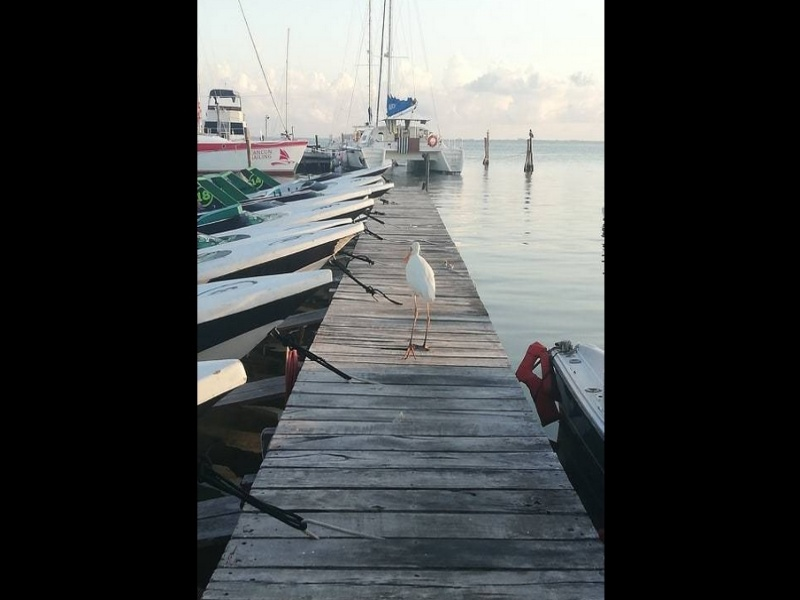heron: (399, 238, 436, 366)
